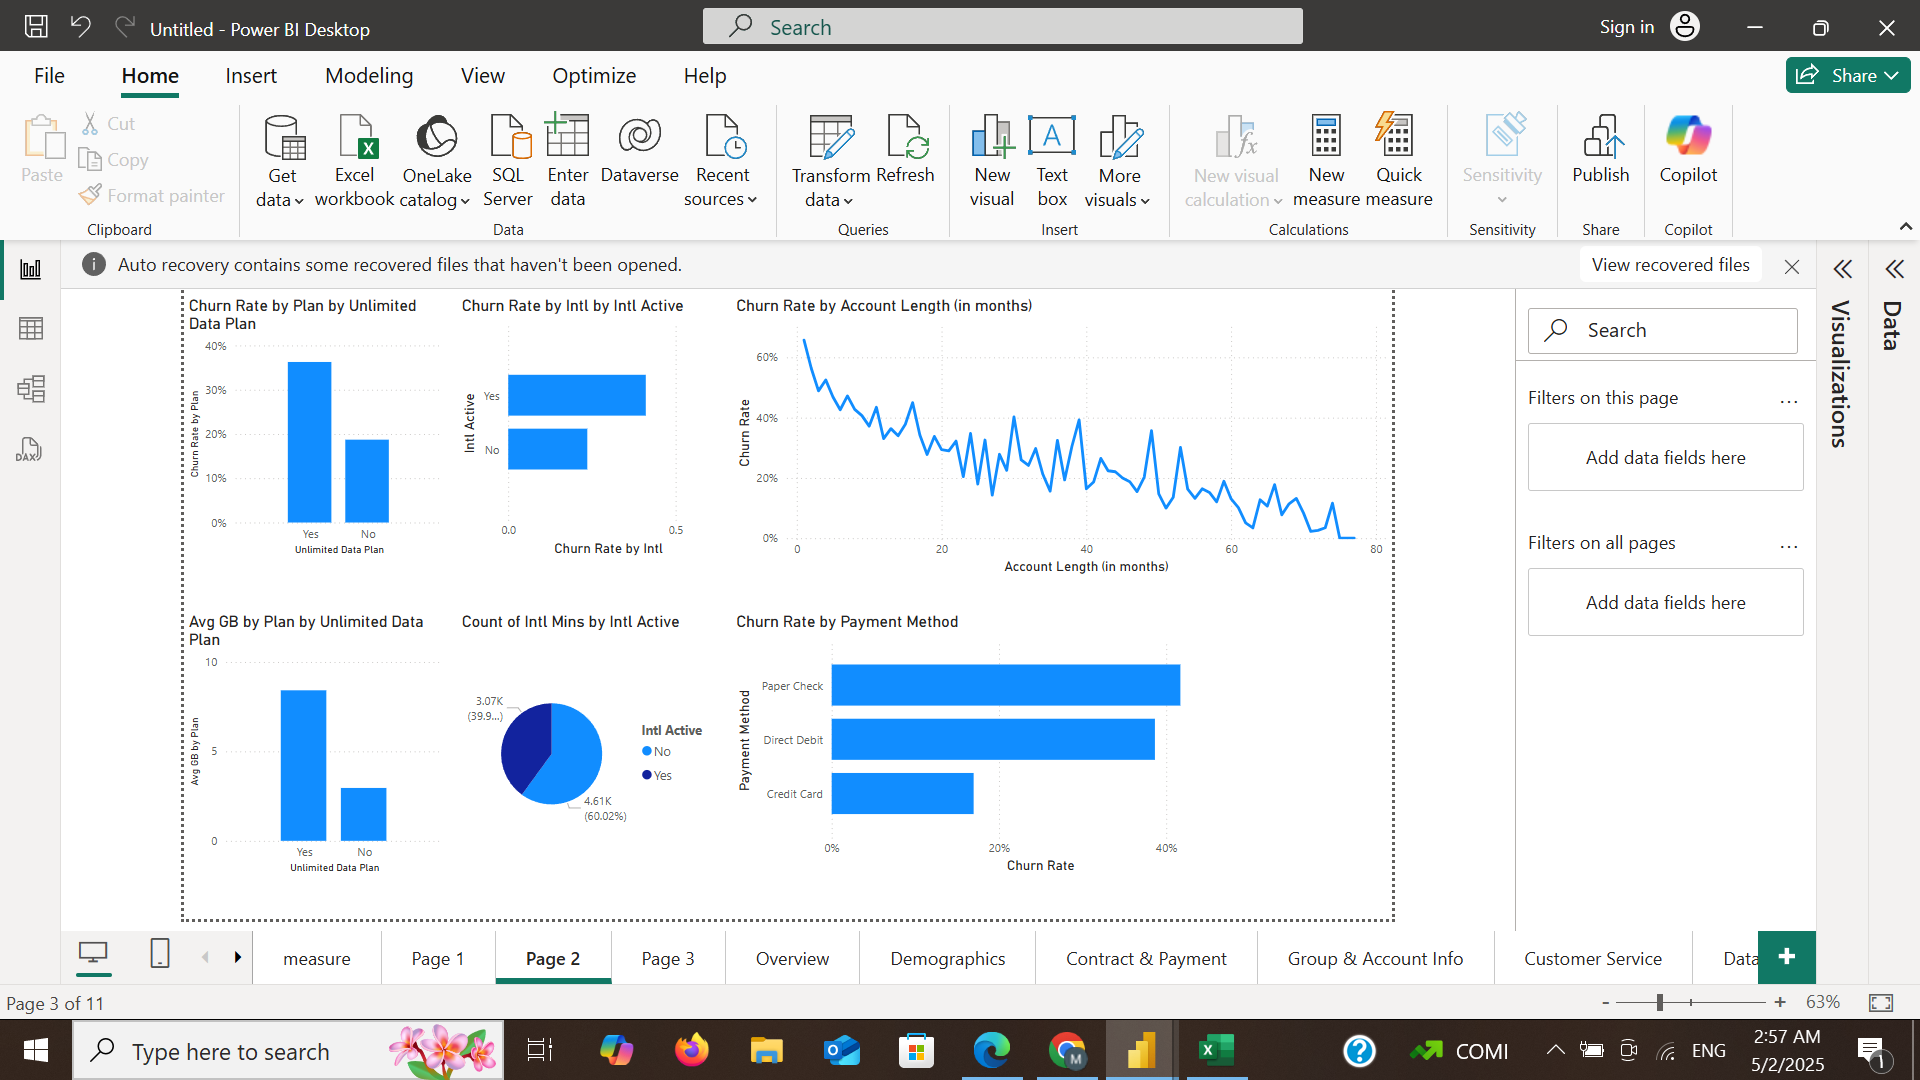

Layout of this report page (visuals, bound fields, positions):
{"tool":"powerbi","page":{"name":"Page 2","canvas":[1280,720],"ordinal":2},"visuals":[{"type":"columnChart","fields":{"Category":["SkyLink - Dataset.Unlimited Data Plan"],"Y":["SkyLink - Dataset.Churn Rate by Plan"]},"box":[0,58.6,279.7,279.7],"z":0},{"type":"columnChart","fields":{"Category":["SkyLink - Dataset.Unlimited Data Plan"],"Y":["SkyLink - Dataset.Avg GB by Plan"]},"box":[0,395,279.7,281.6],"z":1000},{"type":"barChart","fields":{"Y":["SkyLink - Dataset.Churn Rate by Intl"],"Category":["SkyLink - Dataset.Intl Active"]},"box":[290,59,280,280],"z":2000},{"type":"pieChart","fields":{"Category":["SkyLink - Dataset.Intl Active"],"Y":["CountNonNull(SkyLink - Dataset.Intl Mins)"]},"box":[289.1,395,281.6,281.6],"z":3000},{"type":"lineChart","fields":{"Y":["SkyLink - Dataset.Churn Rate"],"Category":["SkyLink - Dataset.Account Length (in months)"]},"box":[580.2,58.6,699.2,300.5],"z":4000},{"type":"barChart","fields":{"Category":["SkyLink - Dataset.Payment Method"],"Y":["SkyLink - Dataset.Churn Rate"]},"box":[580.2,395,566.9,281.6],"z":5000}]}

Visuals, with their boxes on the page's 1280x720 design canvas (x1, y1, x2, y2). These are canvas units, not pixel positions in the 1920x1080 screenshot, which may show the page scaled, cropped or inside an application window:
columnChart - SkyLink - Dataset.Unlimited Data Plan x SkyLink - Dataset.Churn Rate by Plan: 0 59 280 338
columnChart - SkyLink - Dataset.Unlimited Data Plan x SkyLink - Dataset.Avg GB by Plan: 0 395 280 677
barChart - SkyLink - Dataset.Churn Rate by Intl x SkyLink - Dataset.Intl Active: 290 59 570 339
pieChart - SkyLink - Dataset.Intl Active x CountNonNull(SkyLink - Dataset.Intl Mins): 289 395 571 677
lineChart - SkyLink - Dataset.Churn Rate x SkyLink - Dataset.Account Length (in months): 580 59 1279 359
barChart - SkyLink - Dataset.Payment Method x SkyLink - Dataset.Churn Rate: 580 395 1147 677
